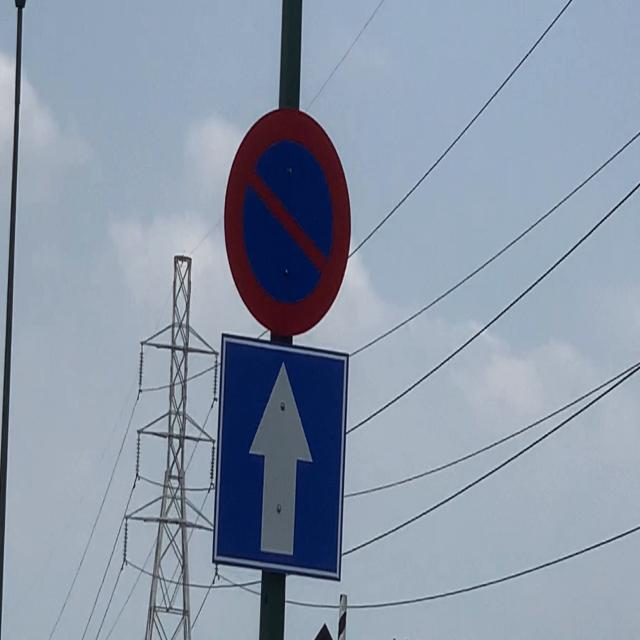Cam do: (223, 107, 352, 336)
Chi dan: (210, 332, 350, 584)
